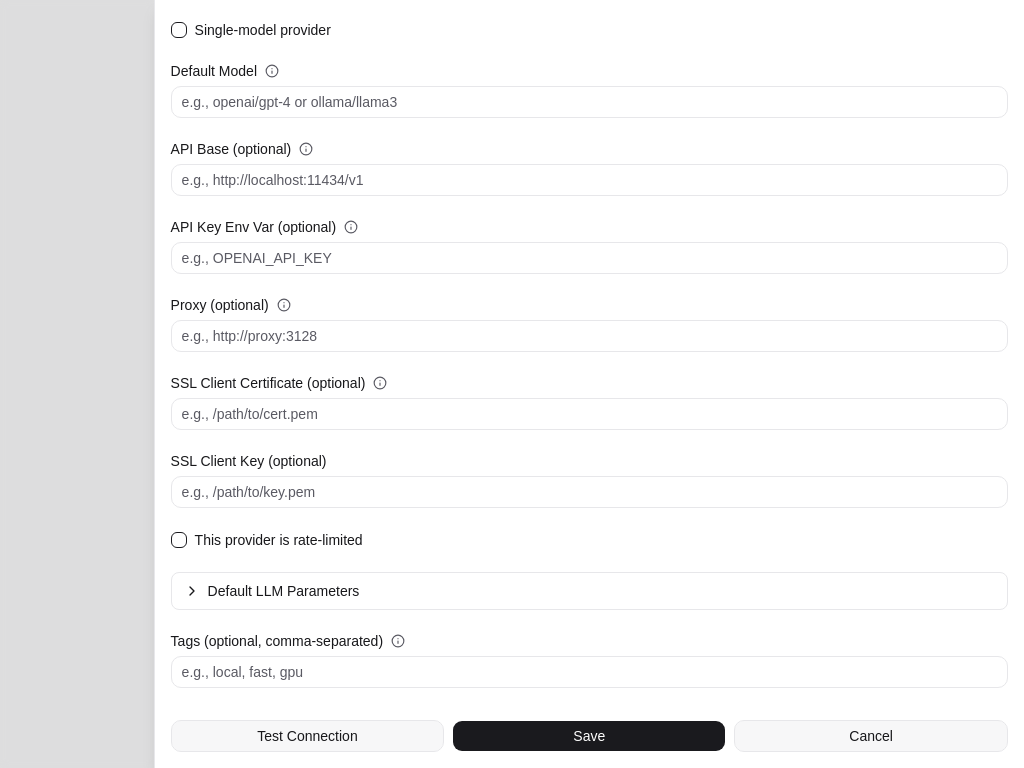
ProviderForm › test connection › shows success message on successful test
(page scrolled)
Step 1. Click the button "Test Connection" → {"x": 308, "y": 736}, box left=171, top=720, right=444, bottom=752
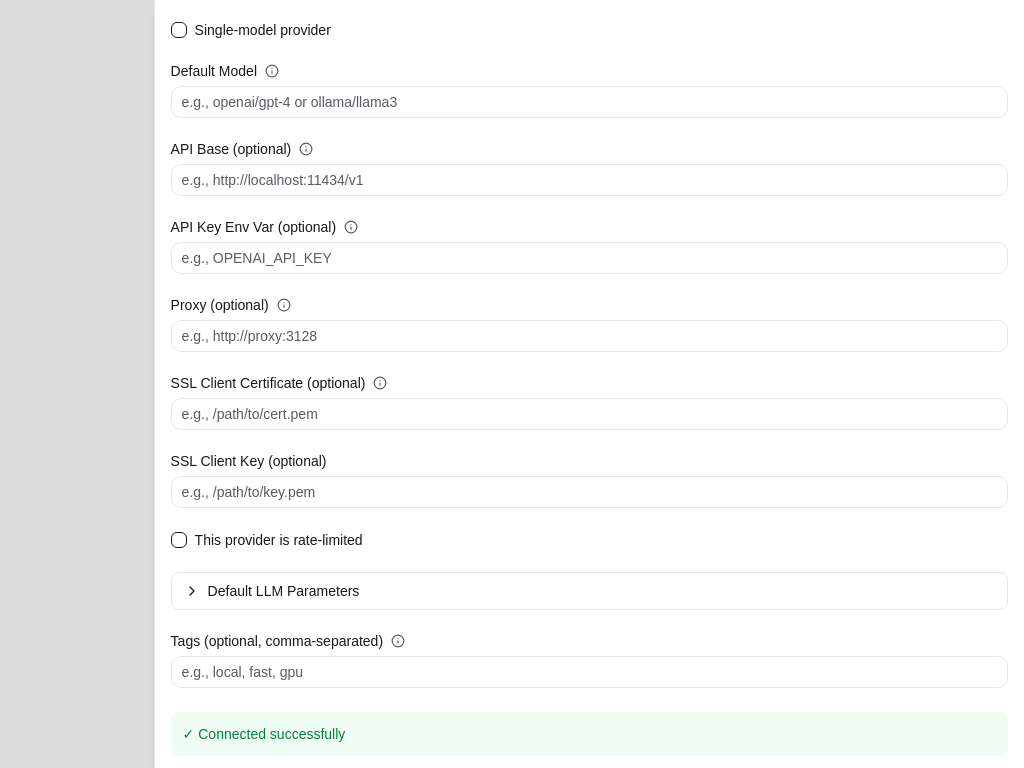
Expected: the text "✓ Connected successfully" is shown, left=183, top=726, right=345, bottom=742
